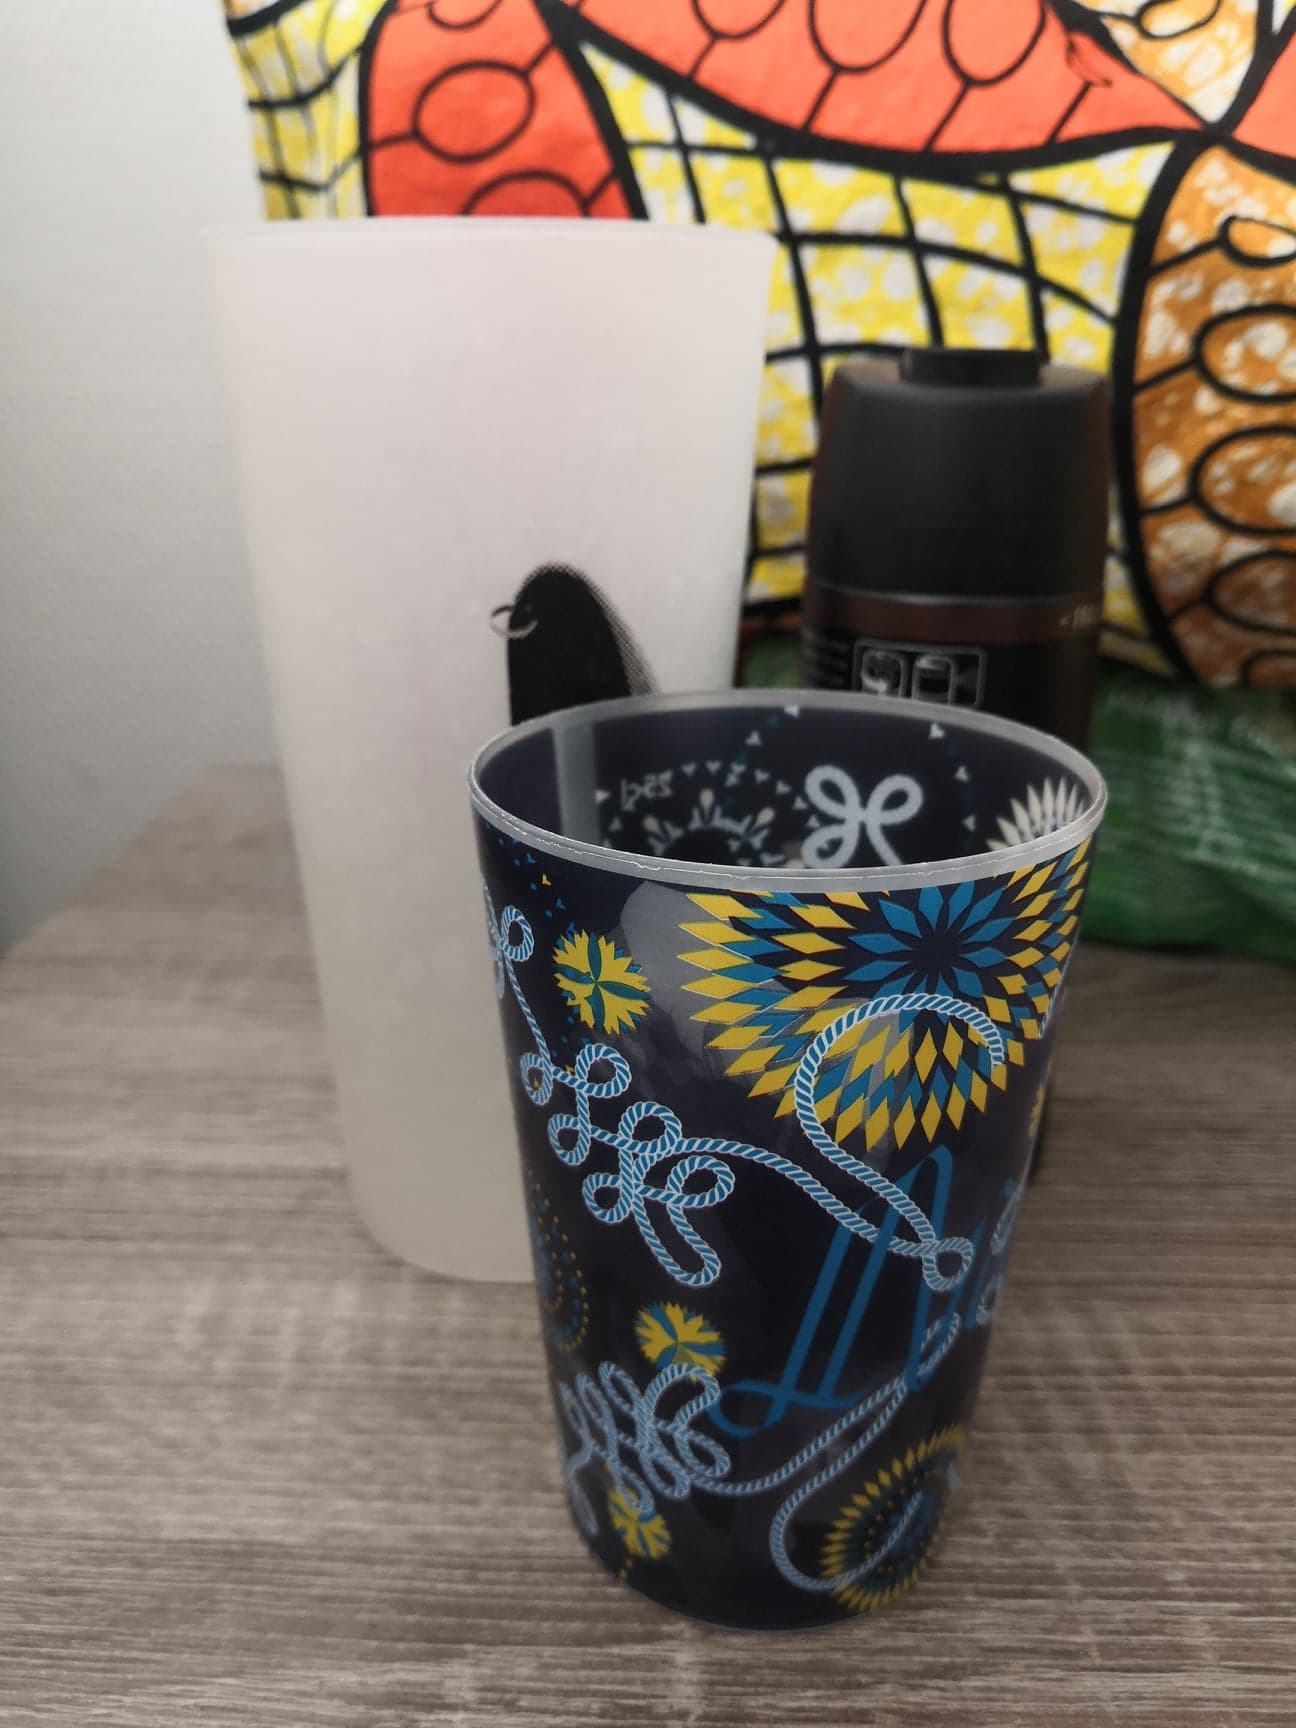ecocup: (201, 214, 781, 1287), (466, 686, 1105, 1625)
